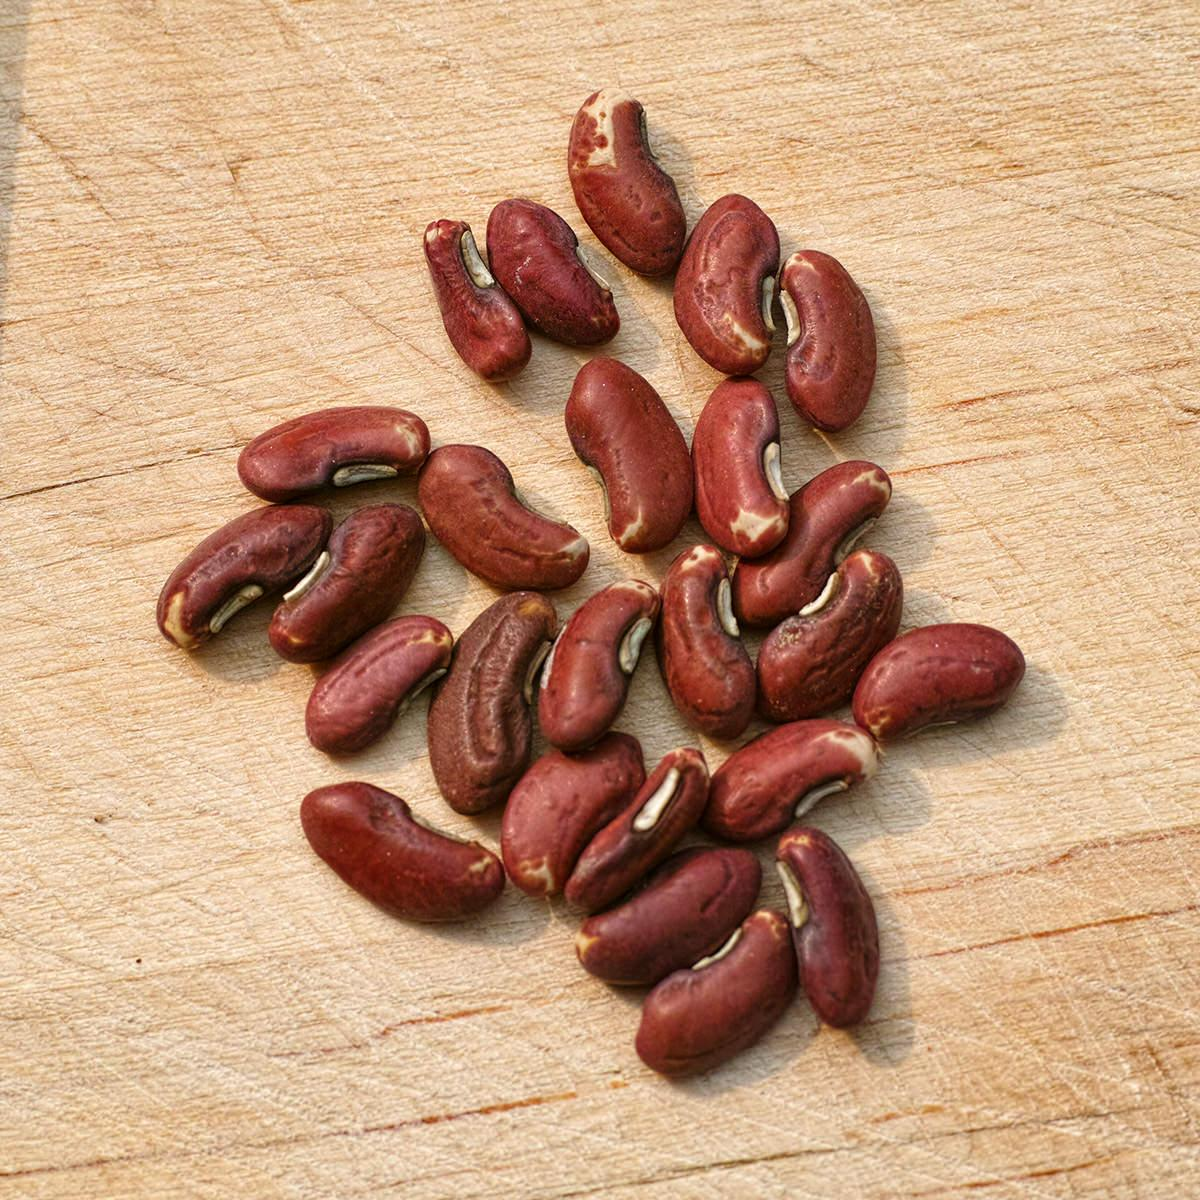organic: (427, 598, 563, 820), (637, 915, 815, 1080), (573, 855, 773, 1000), (160, 505, 345, 657), (305, 785, 508, 922), (757, 555, 912, 730), (565, 757, 720, 925), (270, 508, 430, 670), (567, 88, 692, 288), (775, 827, 900, 1025), (420, 447, 595, 588), (563, 353, 678, 557), (502, 737, 645, 890), (543, 578, 665, 753), (860, 625, 1025, 753), (665, 545, 767, 747), (715, 722, 882, 845), (305, 618, 453, 755), (682, 378, 798, 551), (240, 405, 443, 502), (480, 202, 622, 340), (418, 218, 535, 382), (782, 257, 878, 425), (680, 192, 773, 365)
